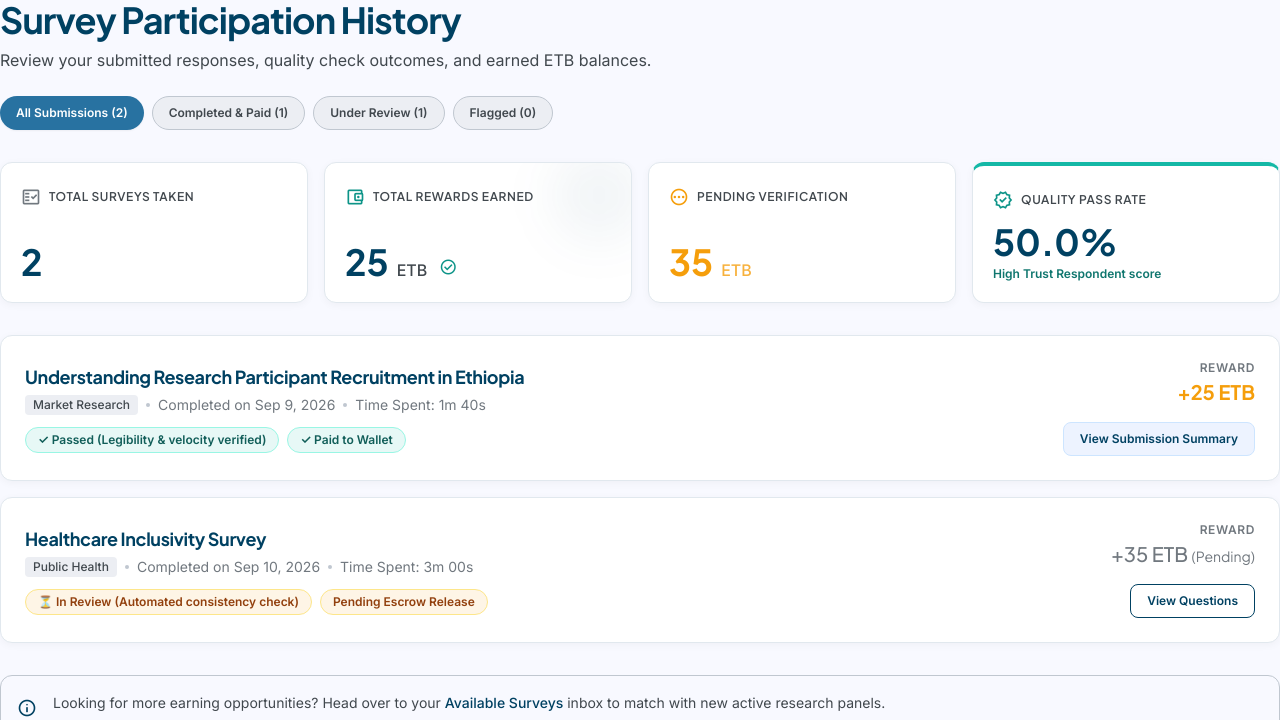
it: HistoryPage - View Submission Summary Feature › opens SubmissionSummaryModal when clicking 'View Submission Summary'
The width and height of the screenshot is (1280, 720).
What coordinates should you click on to do the following:
click the button "View Submission Summary"
I would click on:
 (1159, 439)
Its box is [1063, 422, 1255, 456].
(page scrolled)
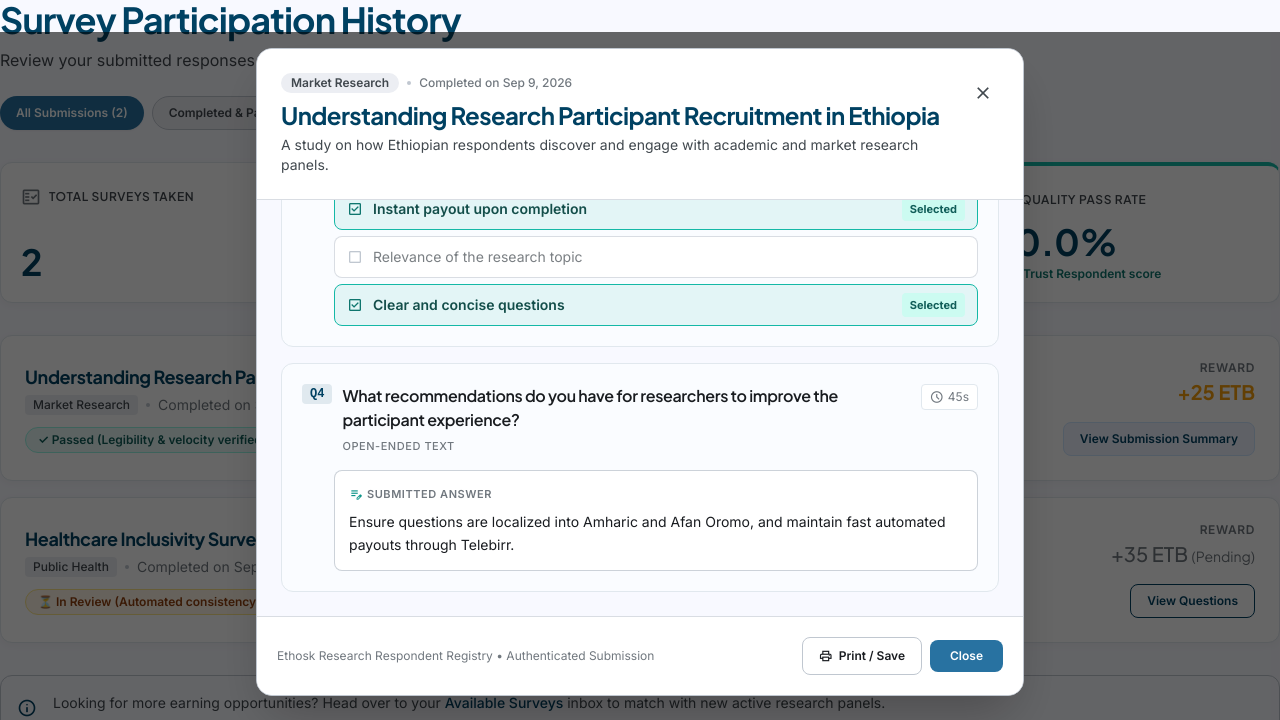
expect the dialog is shown: met
expect the text "Ensure questions are localized into Amharic" is shown: met, box [349, 513, 950, 553]
